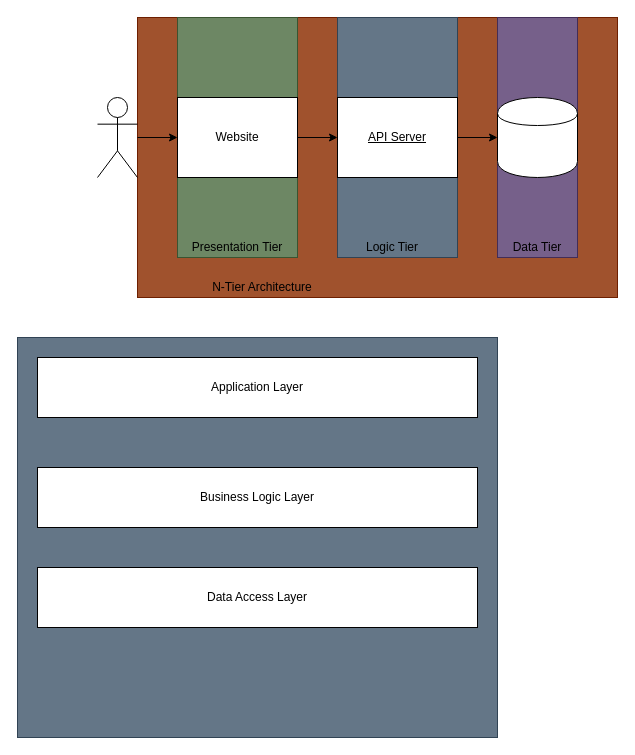
This 635x755 diagram has some shape labels left out. The shapes that lost their labels are listed below. From the top down, each one's centre as x and y in pixels, then its label:
At pixel 117 137: "Actor".
At pixel 537 137: "Database".
